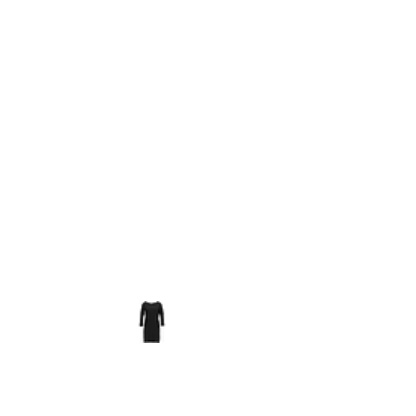Dress: (131, 301, 173, 343)
